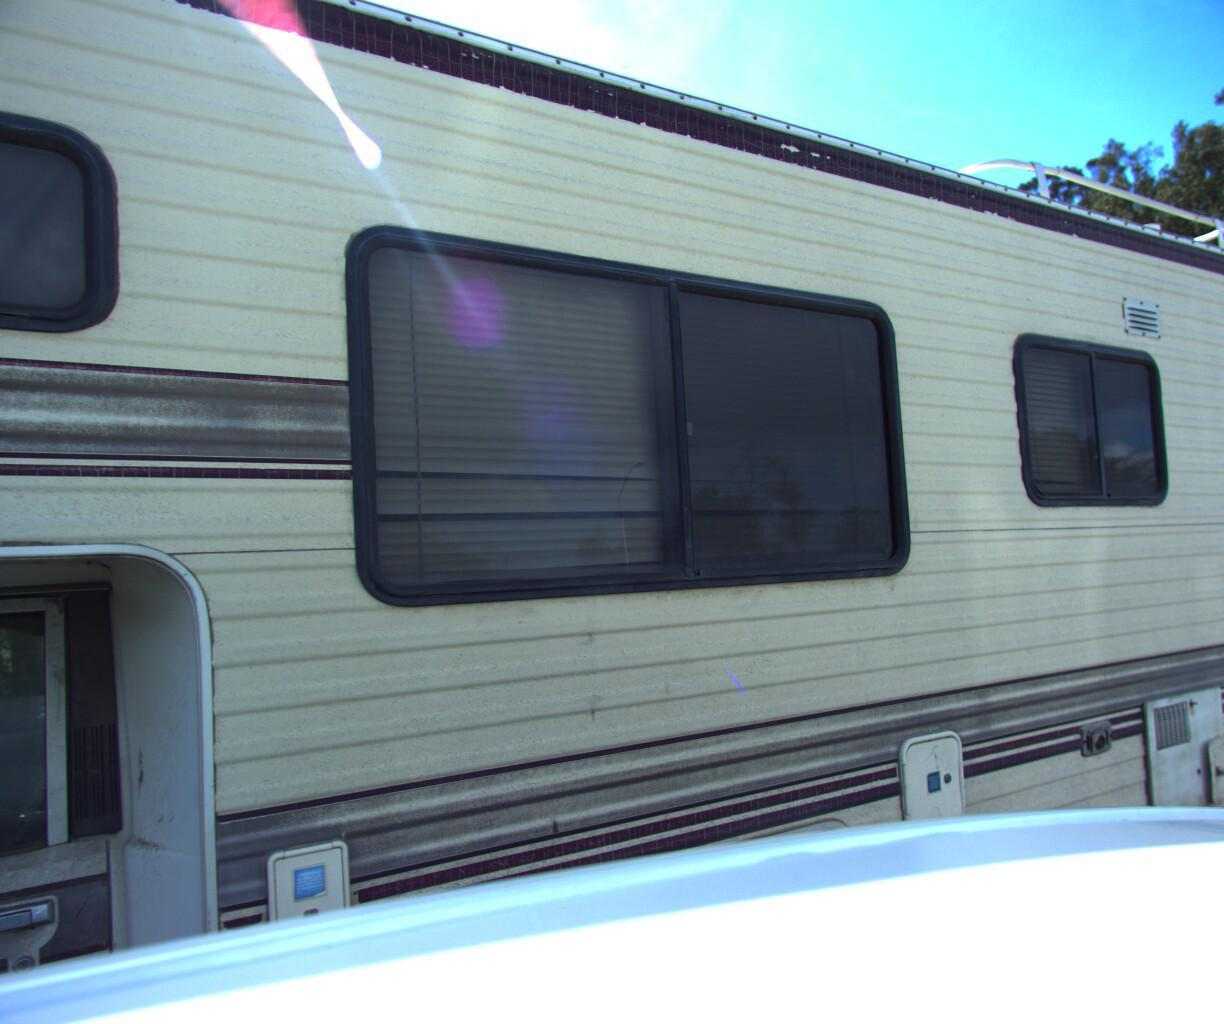car: (1165, 408, 1224, 807)
